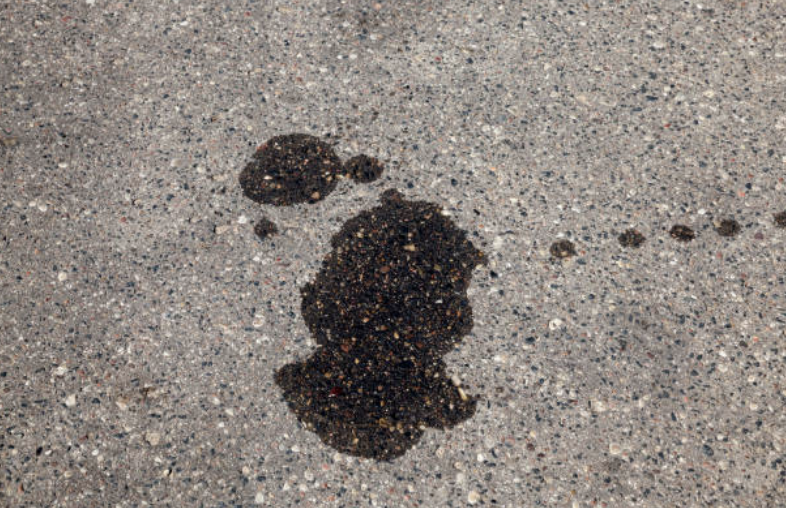oil: (138, 94, 242, 230), (118, 65, 194, 104), (275, 120, 288, 129), (357, 109, 370, 118), (336, 112, 347, 121), (308, 114, 320, 122), (387, 105, 391, 114)
